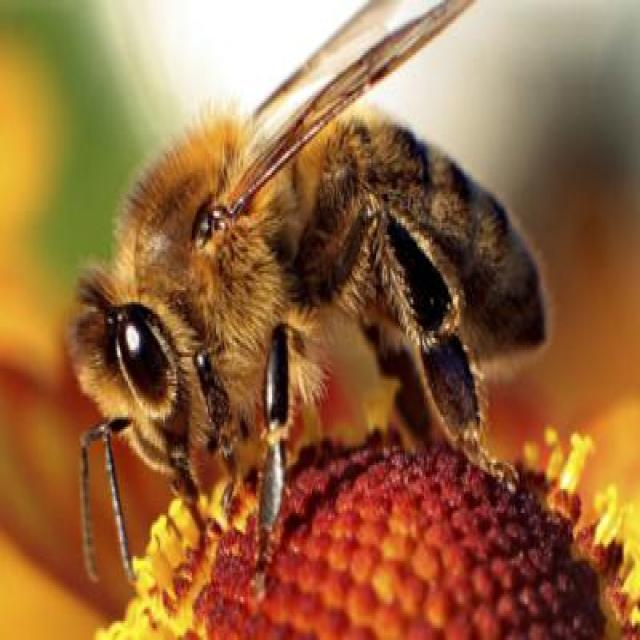antennae: (104, 412, 138, 574), (79, 415, 107, 582)
body: (73, 122, 538, 472)
insect: (72, 0, 550, 598)
legs: (354, 212, 514, 482), (247, 310, 309, 595), (357, 313, 448, 473), (192, 346, 245, 516)
mouthpart: (136, 404, 200, 544)
wings: (227, 0, 473, 229), (230, 0, 406, 155)
